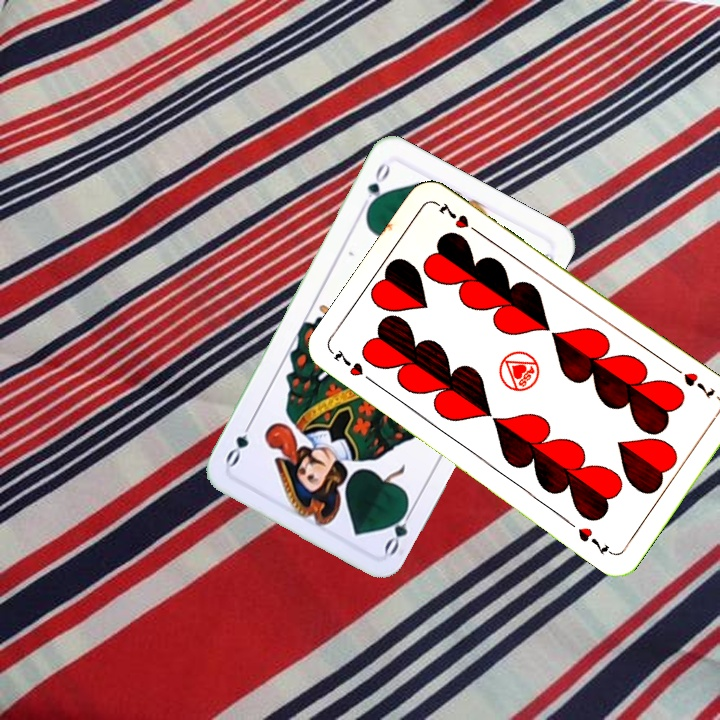GO: (380, 499, 418, 558), (356, 159, 393, 215)
H7: (328, 347, 379, 388), (679, 368, 718, 402)
